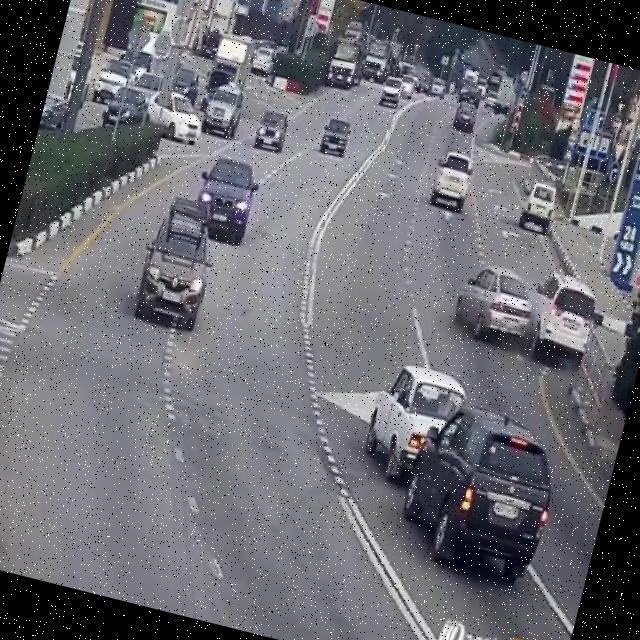accident: (493, 273, 578, 351)
